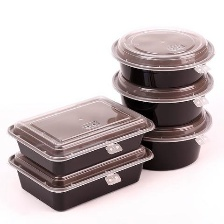plastic_box: (0, 90, 161, 216), (104, 20, 220, 177)
